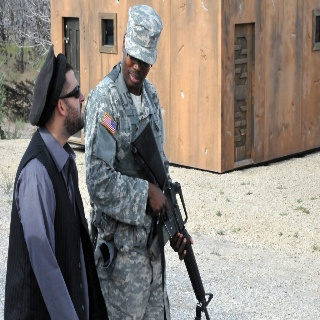rifle: (130, 121, 228, 320)
